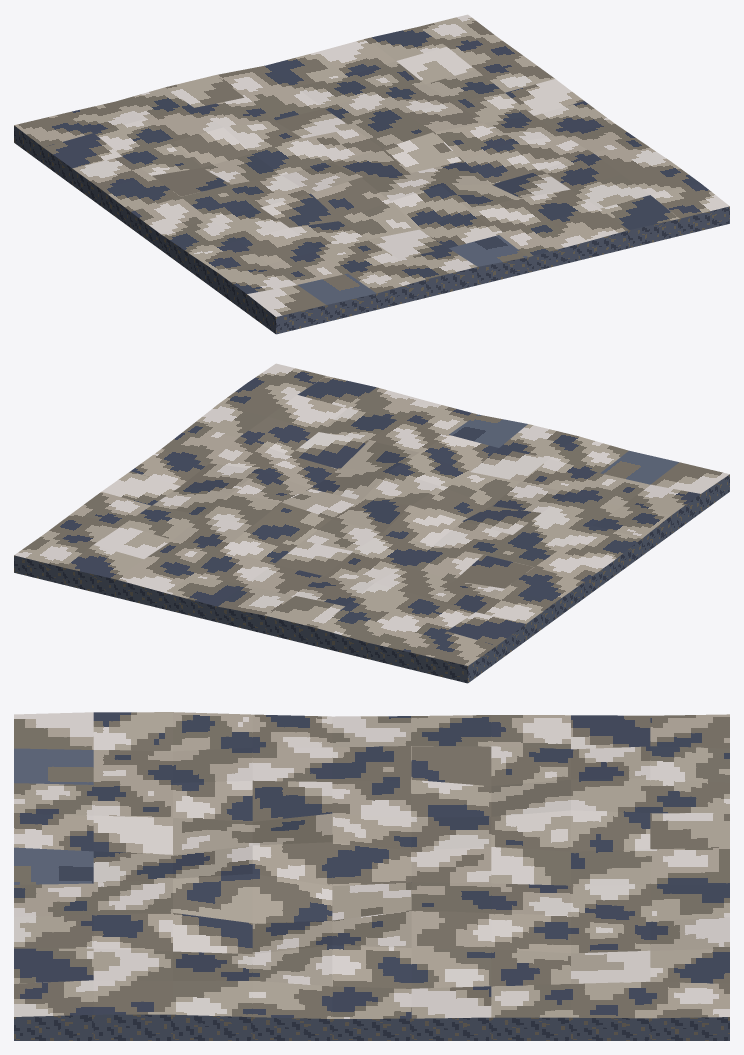
Rendered from TER-06_Arenal_de_conchas_b.gltf.
The picture shows the model from 3 angles, top to bottom: view 1: azimuth 30°, elevation 25°; view 2: azimuth 150°, elevation 25°; view 3: azimuth 270°, elevation 25°; orthographic projection. The views are drawn at different scales.
Parts seen in each view (by area): view 1: TER-06_Arenal_de_conchas_b-col; view 2: TER-06_Arenal_de_conchas_b-col; view 3: TER-06_Arenal_de_conchas_b-col.
Part boxes in pixels (x1,y1,x2,y2): TER-06_Arenal_de_conchas_b-col: (14, 14, 729, 334); TER-06_Arenal_de_conchas_b-col: (14, 363, 729, 683); TER-06_Arenal_de_conchas_b-col: (14, 712, 729, 1040).
Size of the model in its own units: 4 by 0.2 by 4.
1 material, 1 textured.
